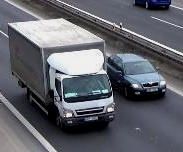car: (106, 54, 167, 99), (134, 0, 171, 9)
